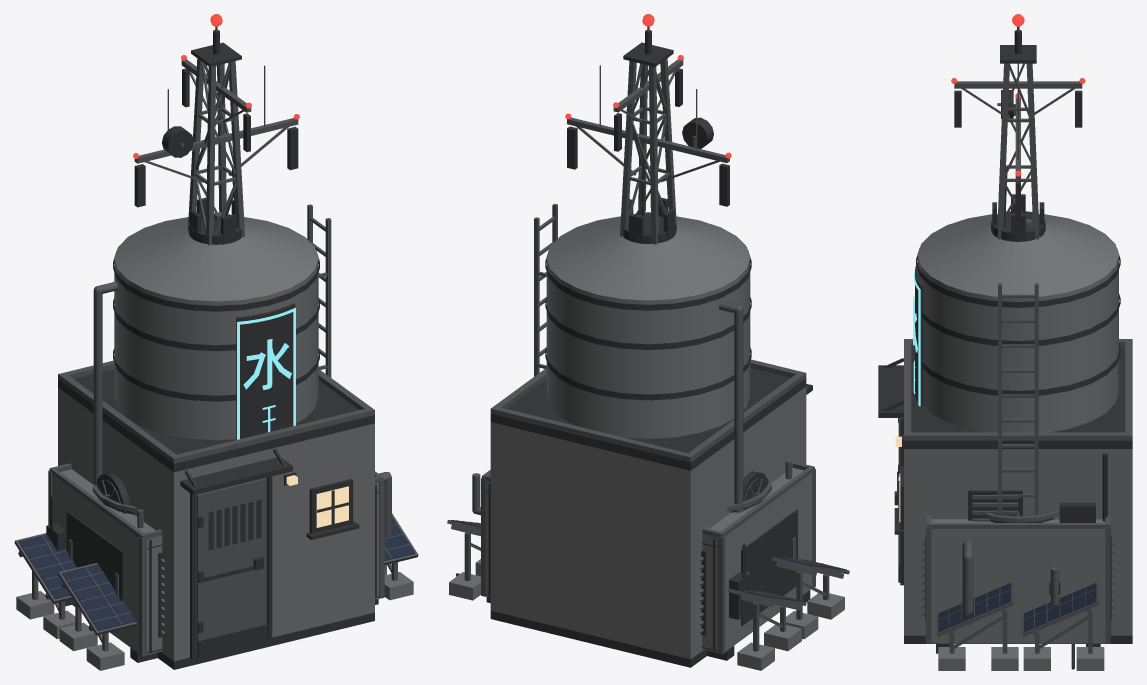
Rendered from roof167.glb.
The picture shows the model from 3 angles, left to right: view 1: azimuth 30°, elevation 25°; view 2: azimuth 150°, elevation 25°; view 3: azimuth 270°, elevation 25°; orthographic projection.
Parts seen in each view (by area): view 1: r167-tank-r167-concrete, r167-shed-r167-concrete, r167-shed-r167-dark, r167-shed-r167-metal, r167-tank-r167-dark, r167-mast-r167-metal, r167-cooler-r167-concrete, r167-solar-r167-panel, r167-cooler-r167-dark, r167-cooler-r167-metal, r167-mast-r167-dark, r167-tank-r167-metal (+4 smaller); view 2: r167-shed-r167-concrete, r167-tank-r167-concrete, r167-mast-r167-metal, r167-shed-r167-dark, r167-cooler-r167-concrete, r167-cooler-r167-dark, r167-tank-r167-dark, r167-shed-r167-metal, r167-cooler-r167-metal, r167-mast-r167-dark, r167-tank-r167-metal, r167-solar-r167-concrete (+1 smaller); view 3: r167-tank-r167-concrete, r167-shed-r167-concrete, r167-cooler-r167-concrete, r167-shed-r167-dark, r167-tank-r167-dark, r167-mast-r167-metal, r167-cooler-r167-metal, r167-shed-r167-metal, r167-tank-r167-metal, r167-solar-r167-metal, r167-mast-r167-dark, r167-solar-r167-panel (+3 smaller).
Boxes of the visible parts, x1,y1,x2,y2 form: r167-tank-r167-concrete: (114,217,318,440); r167-shed-r167-concrete: (58,388,374,661); r167-shed-r167-dark: (58,369,374,669); r167-shed-r167-metal: (58,360,374,657); r167-tank-r167-dark: (113,213,319,439); r167-mast-r167-metal: (134,26,298,245); r167-cooler-r167-concrete: (52,469,379,654); r167-solar-r167-panel: (18,516,415,630); r167-cooler-r167-dark: (46,485,379,662); r167-cooler-r167-metal: (48,463,391,656); r167-mast-r167-dark: (134,30,298,244); r167-tank-r167-metal: (93,204,331,486); r167-shed-r167-concrete: (490,386,806,659); r167-tank-r167-concrete: (546,216,750,438); r167-mast-r167-metal: (567,26,729,244); r167-shed-r167-dark: (490,368,812,667); r167-cooler-r167-concrete: (486,467,812,652); r167-cooler-r167-dark: (486,483,810,660); r167-tank-r167-dark: (545,212,751,400); r167-shed-r167-metal: (490,359,806,510); r167-cooler-r167-metal: (472,462,815,654); r167-mast-r167-dark: (567,30,729,243); r167-tank-r167-metal: (534,203,743,512); r167-solar-r167-concrete: (449,559,844,670); r167-tank-r167-concrete: (917,214,1118,432); r167-shed-r167-concrete: (904,449,1132,635); r167-cooler-r167-concrete: (931,519,1105,643); r167-shed-r167-dark: (878,347,1132,643); r167-tank-r167-dark: (915,211,1120,405); r167-mast-r167-metal: (954,26,1082,241); r167-cooler-r167-metal: (921,511,1115,643); r167-shed-r167-metal: (899,339,1132,565); r167-tank-r167-metal: (998,219,1038,514); r167-solar-r167-metal: (936,582,1099,653); r167-mast-r167-dark: (954,30,1082,241); r167-solar-r167-panel: (938,583,1096,631).
Size of the model in its own units: 4.05 by 7 by 2.78.
